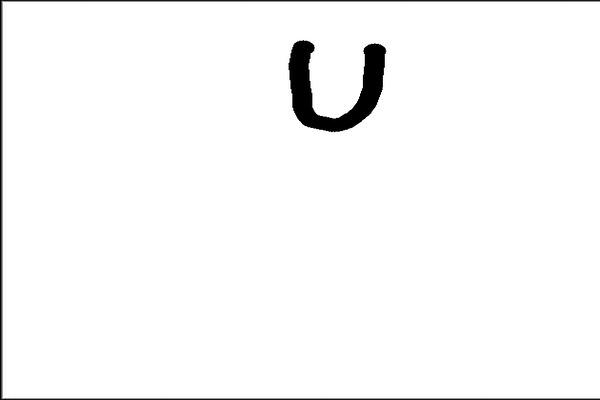U: (280, 37, 390, 133)
